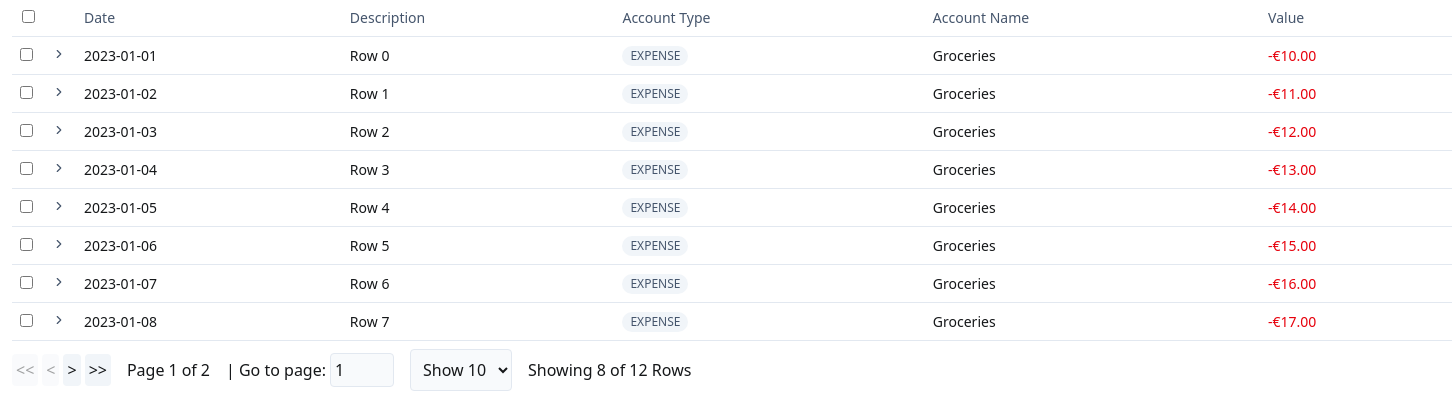
Test: TransactTable › sorts rows when a sortable column header is clicked
This screenshot has width=1452, height=408.
Click the button "Value": click(1286, 18) x1=1268 y1=8 x2=1304 y2=28
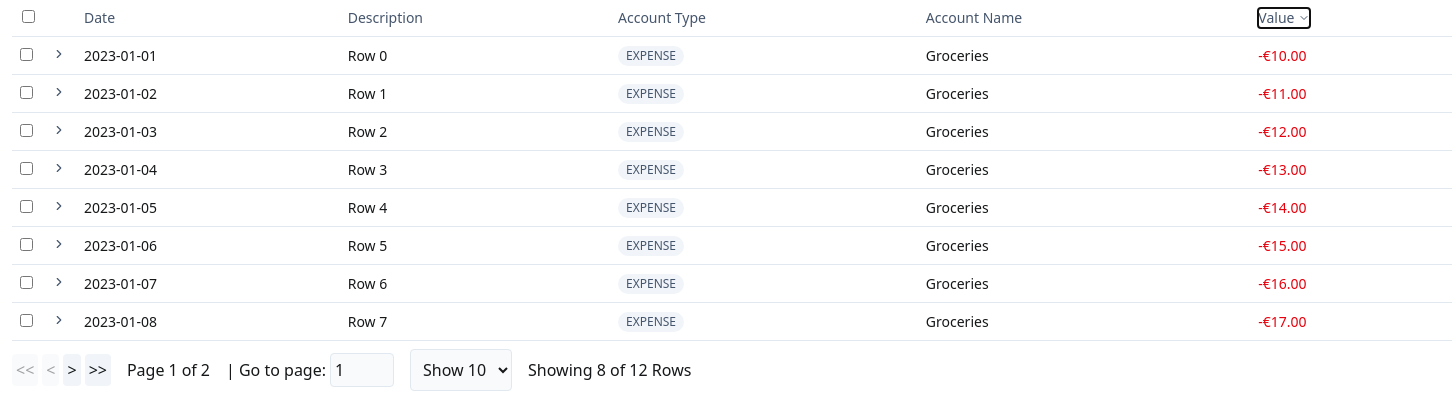
Click the button "Value": click(1284, 18) x1=1258 y1=8 x2=1310 y2=28
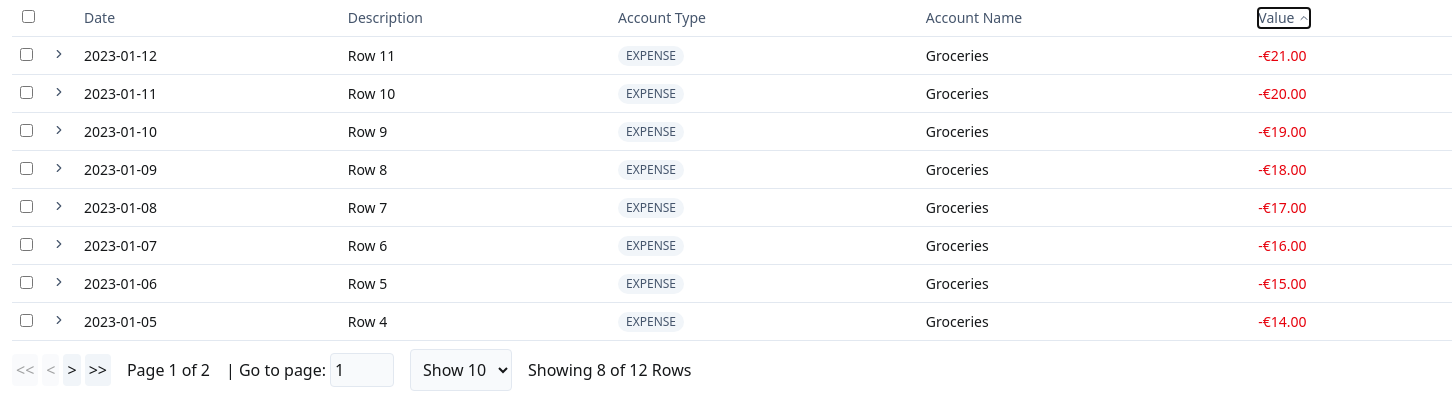
Check: the text "Row 11" is shown, box x1=340 y1=36 x2=610 y2=74
